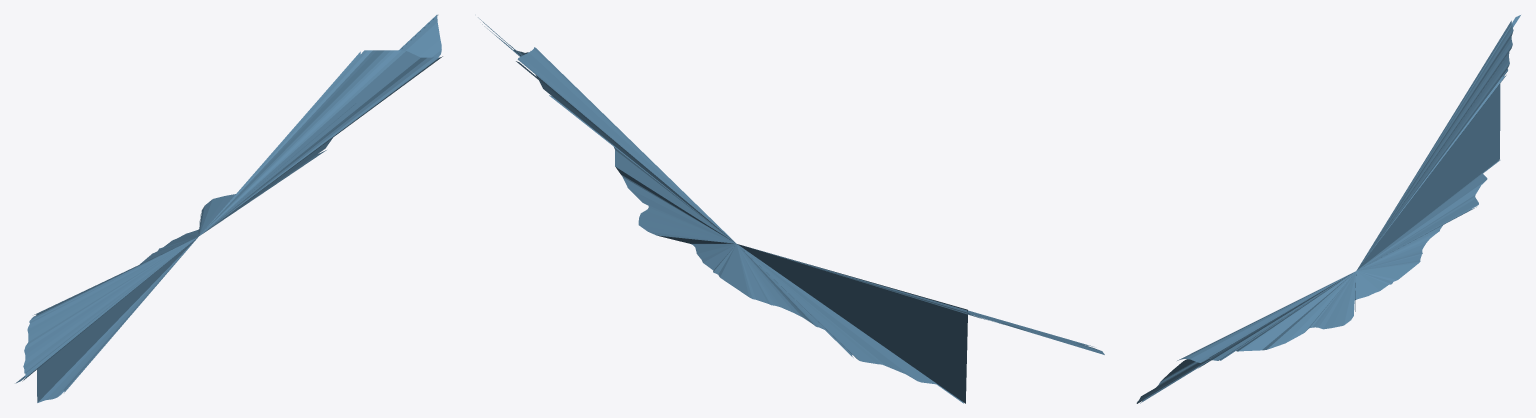
Rendered from c_1660_17837_water.glb.
The picture shows the model from 3 angles, left to right: view 1: azimuth 90°, elevation 25°; view 2: azimuth 150°, elevation 25°; view 3: azimuth 270°, elevation 25°; orthographic projection. The views are drawn at different scales.
Visible parts, largest first — view 1: geometry_0; view 2: geometry_0; view 3: geometry_0.
Part boxes in pixels (bbox=[...]): geometry_0: bbox=[15, 14, 442, 402]; geometry_0: bbox=[478, 17, 1104, 403]; geometry_0: bbox=[1136, 15, 1520, 403].
Size of the model in its own units: 3712 by 394 by 1691.
